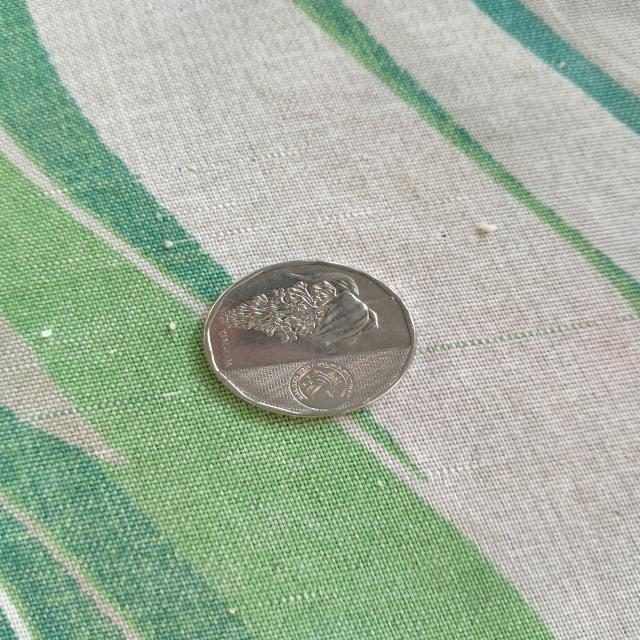10_New_Back: (200, 262, 394, 357)
